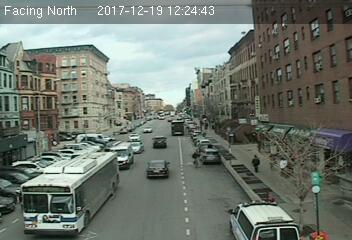bus: (20, 150, 118, 231)
car: (144, 159, 169, 179), (202, 148, 220, 163), (152, 136, 168, 149), (129, 141, 143, 154)
pedestrian: (252, 155, 262, 176), (192, 150, 201, 168)
police: (227, 198, 301, 240)
truck: (107, 140, 135, 169)
ups: (170, 120, 184, 136)
